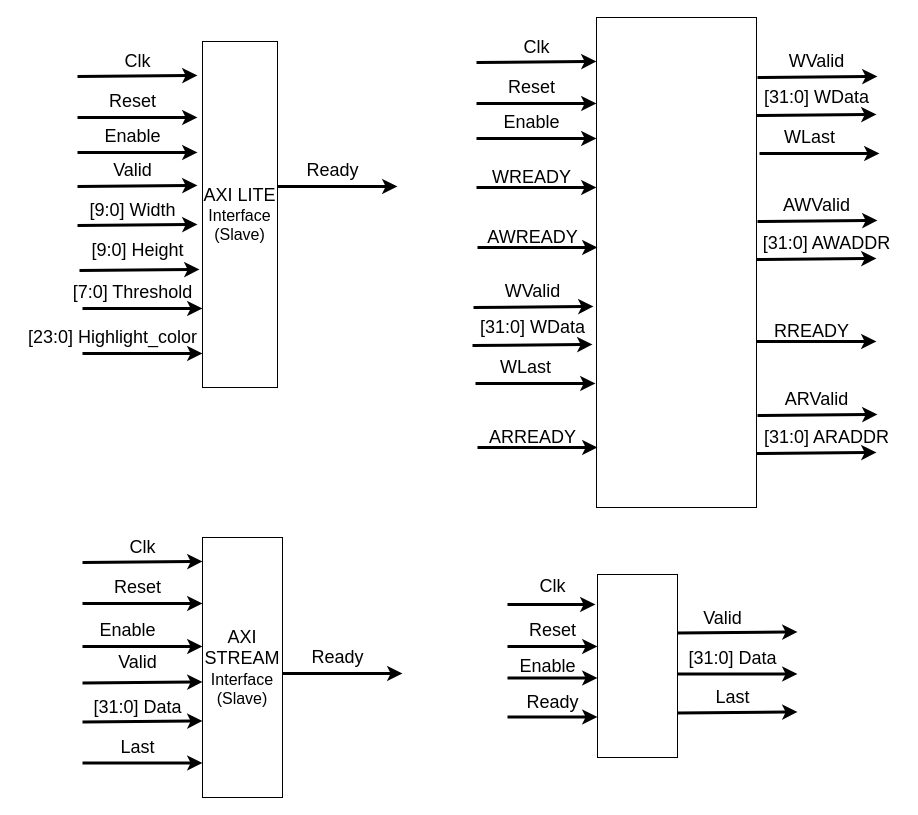
This 918x815 diagram has some shape labels left out. The shapes that lost their labels are listed below. From the top down, each one's box as (x1, y1, x2, y2) in pixels, then its label:
(596, 16, 756, 508): AXI MEM (Master)
(596, 574, 678, 758): AXI STREAM Interface (Master)
